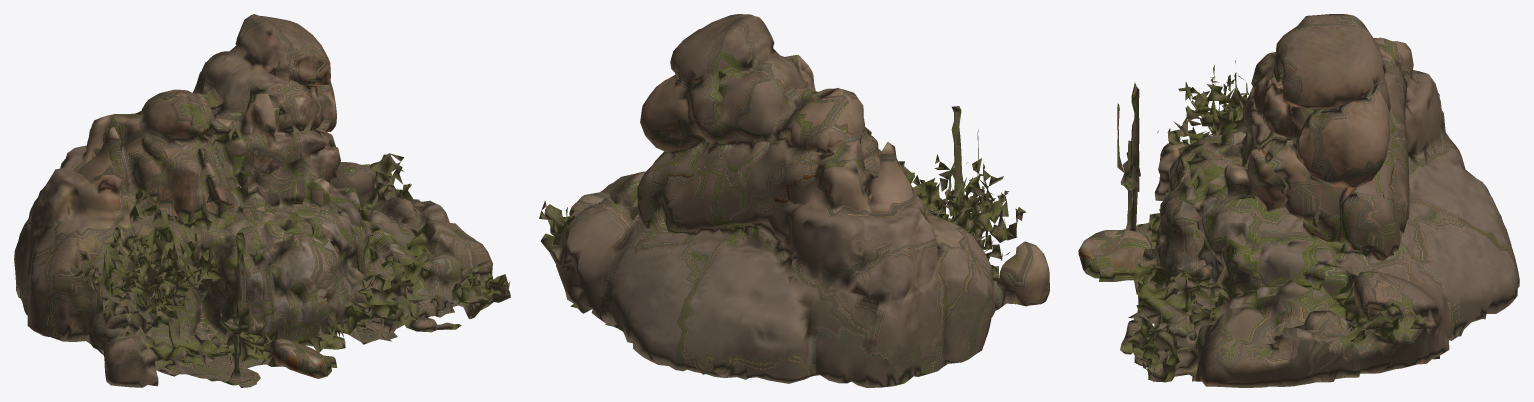
File: centinela.glb
3 renders of one model, left to right at view 1: azimuth 30°, elevation 25°; view 2: azimuth 150°, elevation 25°; view 3: azimuth 270°, elevation 25°, orthographic. The views are drawn at different scales.
Size of the model in its own units: 1.88 by 1.16 by 1.61.
1 material, 1 textured.
